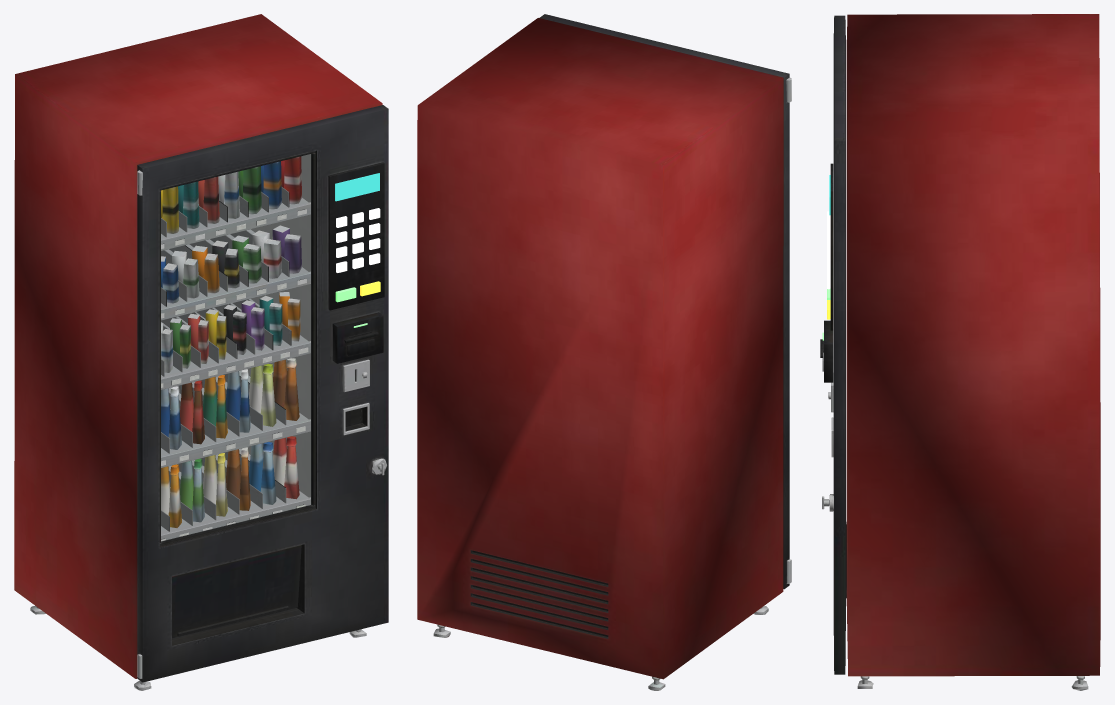
File: g3-vending-machine-lite.glb
3 renders of one model, left to right at view 1: azimuth 30°, elevation 25°; view 2: azimuth 150°, elevation 25°; view 3: azimuth 270°, elevation 25°, orthographic. The views are drawn at different scales.
Visible parts, largest first — view 1: vending-machine_body, vending-machine_goods, vending-machine_keypad_lamp, vending-machine_menu_display; view 2: vending-machine_body; view 3: vending-machine_body.
Boxes of the visible parts, box(x1,y1,x2,y2) form: vending-machine_body: box(14, 14, 388, 690); vending-machine_goods: box(161, 156, 310, 541); vending-machine_keypad_lamp: box(336, 208, 380, 272); vending-machine_menu_display: box(335, 173, 379, 201); vending-machine_body: box(417, 14, 791, 690); vending-machine_body: box(820, 14, 1100, 690).
Bounding box in the file's own units: 0.9028 × 1.85 × 0.8449.
8 materials, 2 textured.
